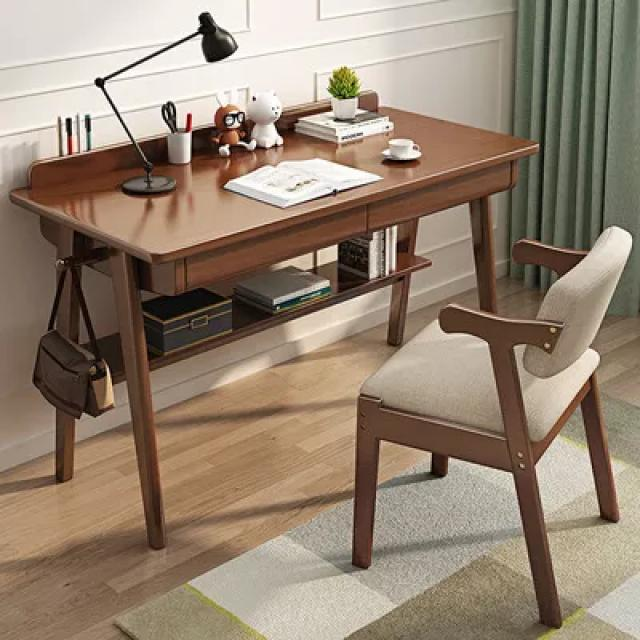table: (8, 99, 574, 255)
